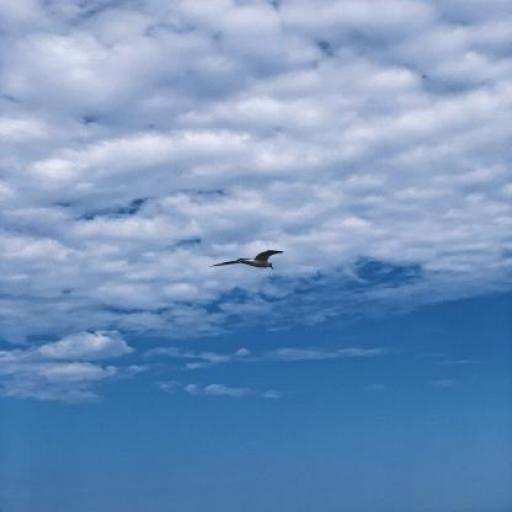bird: (212, 248, 283, 270)
